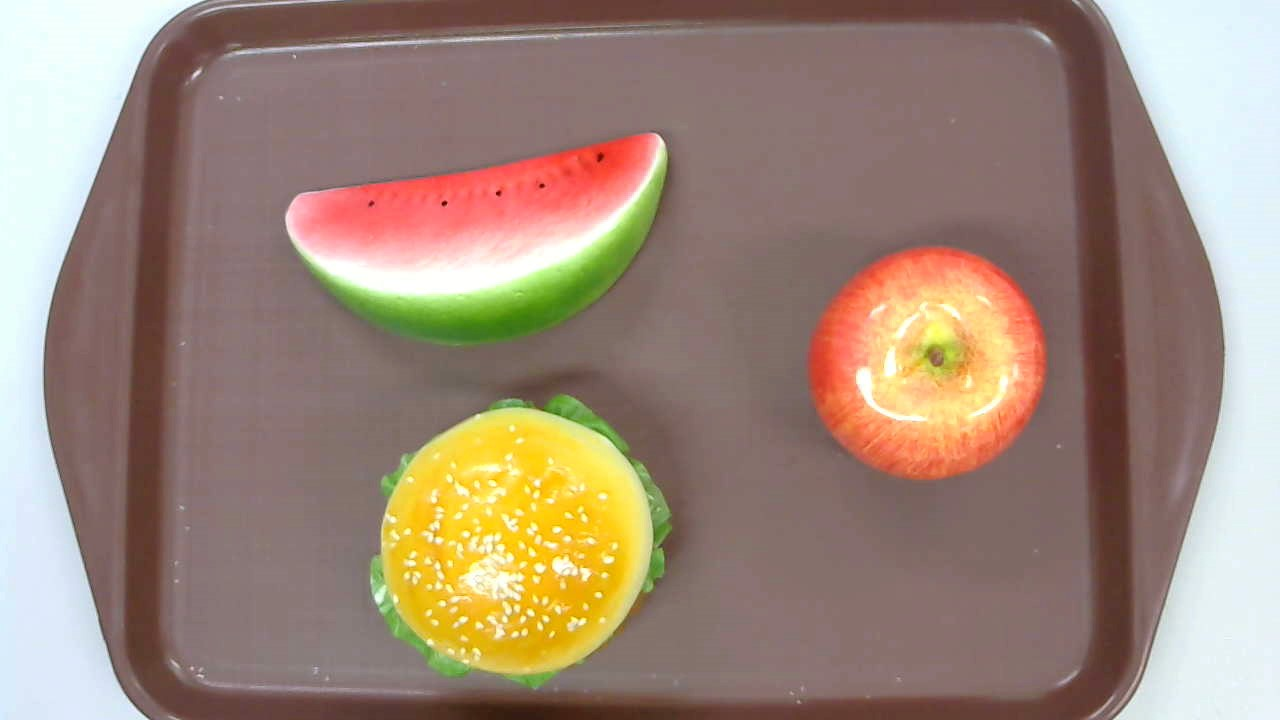hamburger: (368, 394, 672, 689)
red apple: (808, 245, 1047, 479)
water melon: (283, 133, 669, 347)
